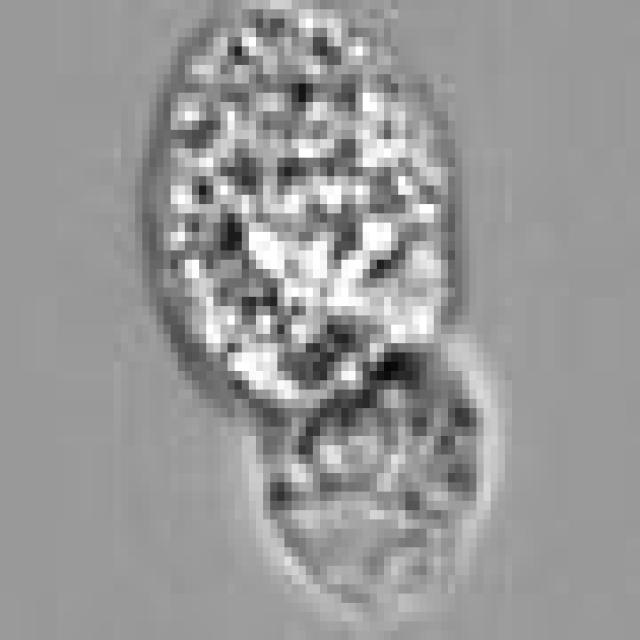Cancer Cell: (157, 9, 455, 399)
WBC: (263, 306, 498, 603)
